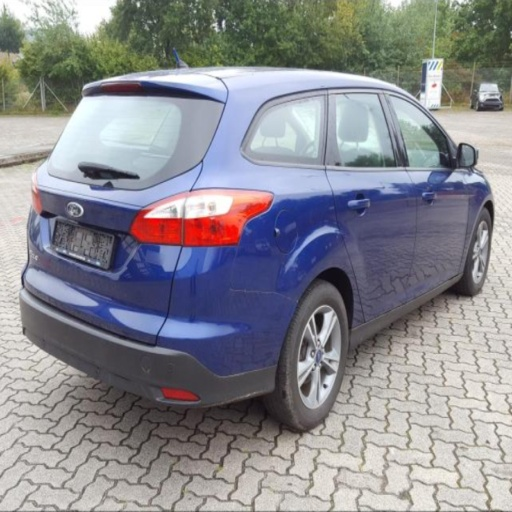rust: (203, 390, 273, 407)
